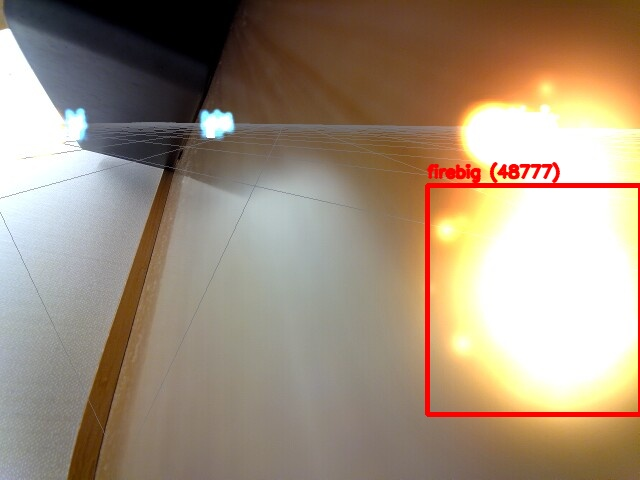firebig: (427, 185, 640, 414)
